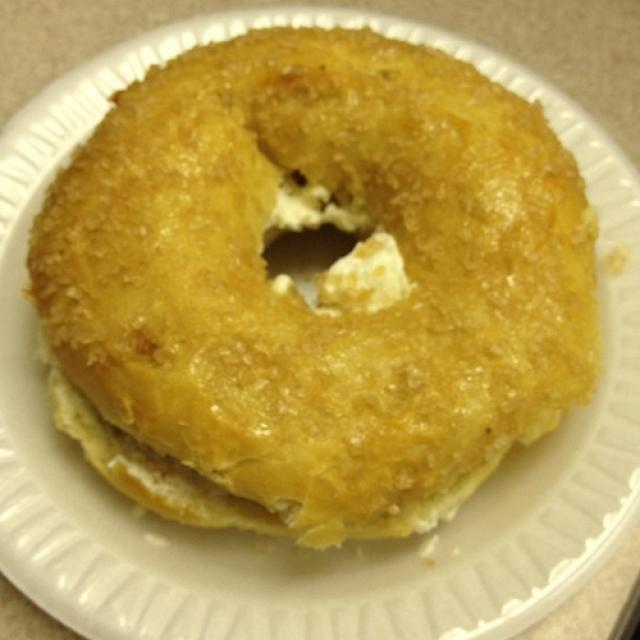面包点心: (5, 10, 635, 608)
